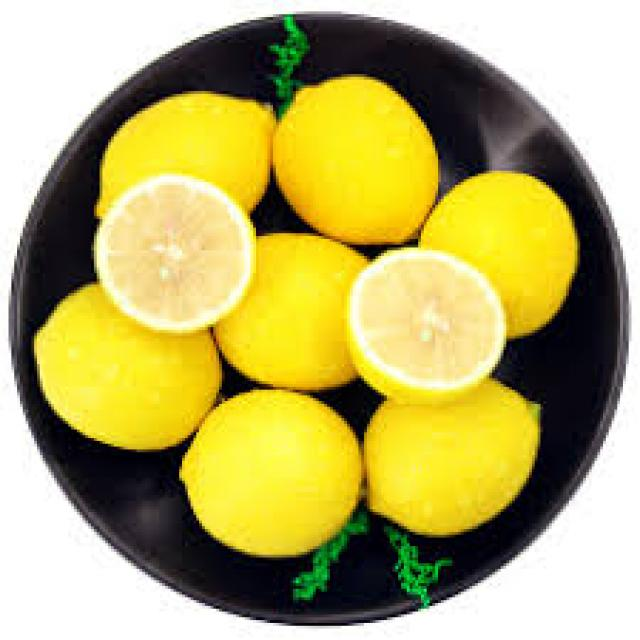organic waste: (28, 279, 222, 452), (176, 387, 362, 555), (270, 68, 438, 242), (210, 230, 387, 392), (412, 165, 578, 336), (358, 381, 538, 535), (342, 242, 506, 404), (88, 171, 253, 330), (91, 88, 270, 216)
